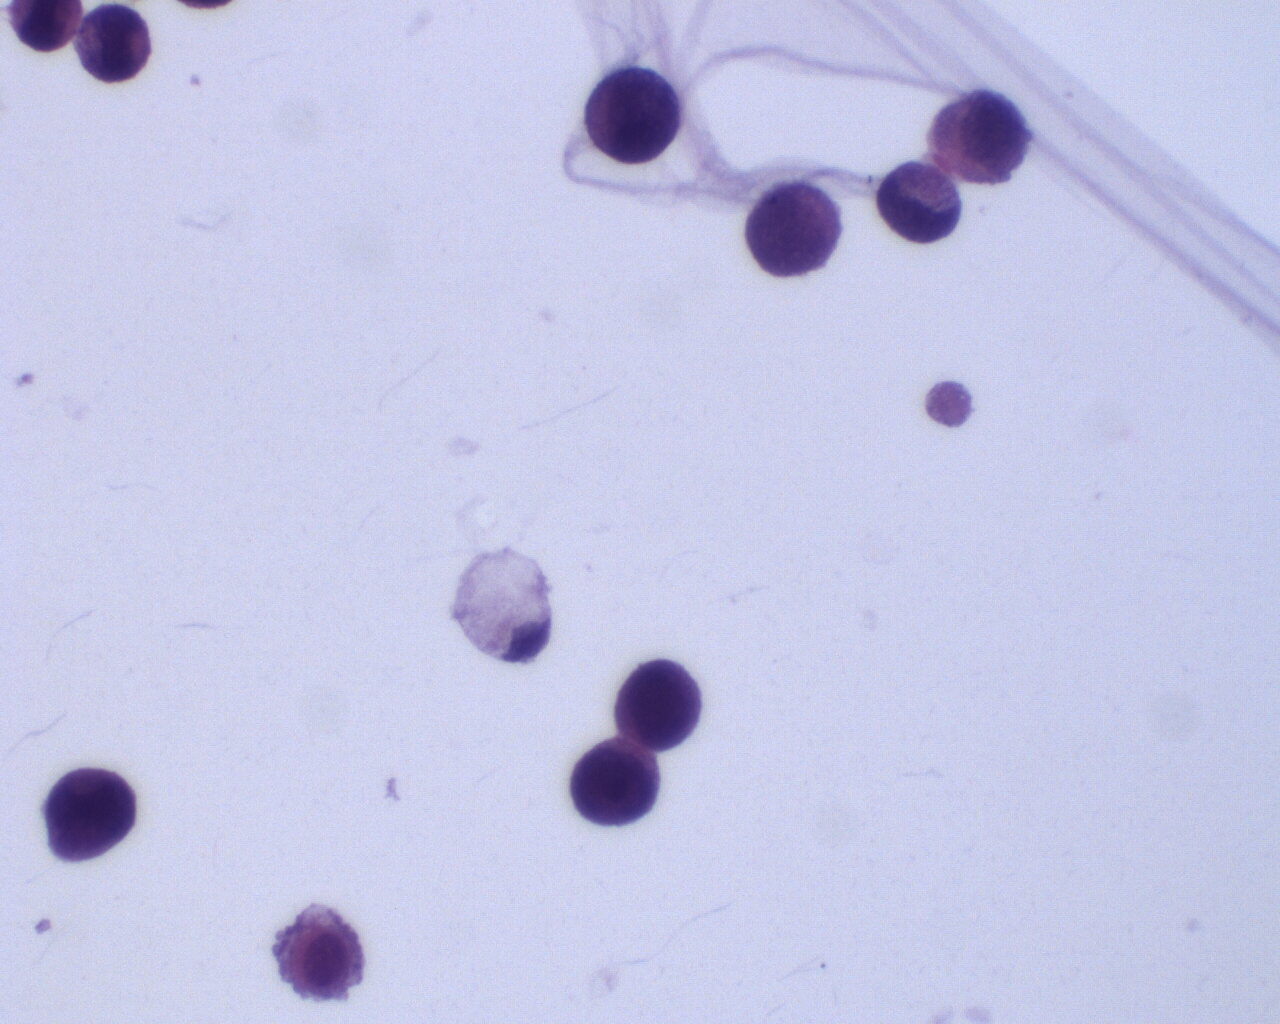ab: (36, 760, 147, 867), (928, 84, 1032, 191), (586, 66, 685, 168), (748, 174, 845, 279), (610, 655, 707, 753), (569, 735, 664, 830), (877, 160, 963, 246), (74, 2, 157, 85)
histo: (453, 546, 552, 665)
